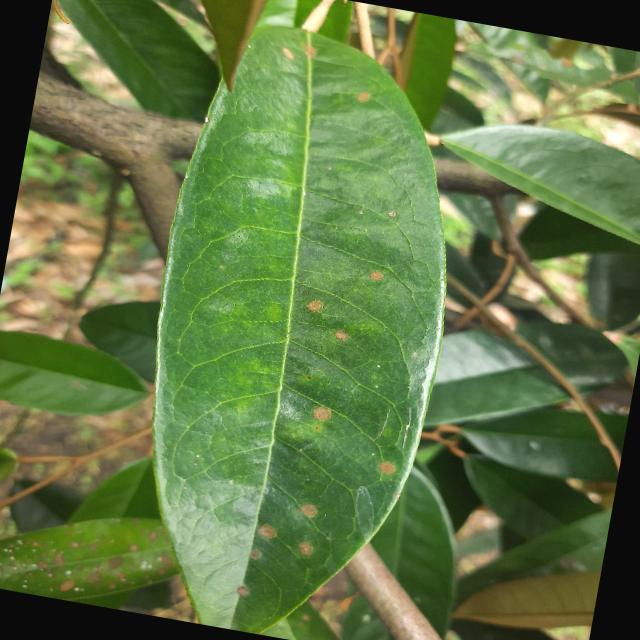Algal Leaf Spot: (96, 0, 501, 639)
